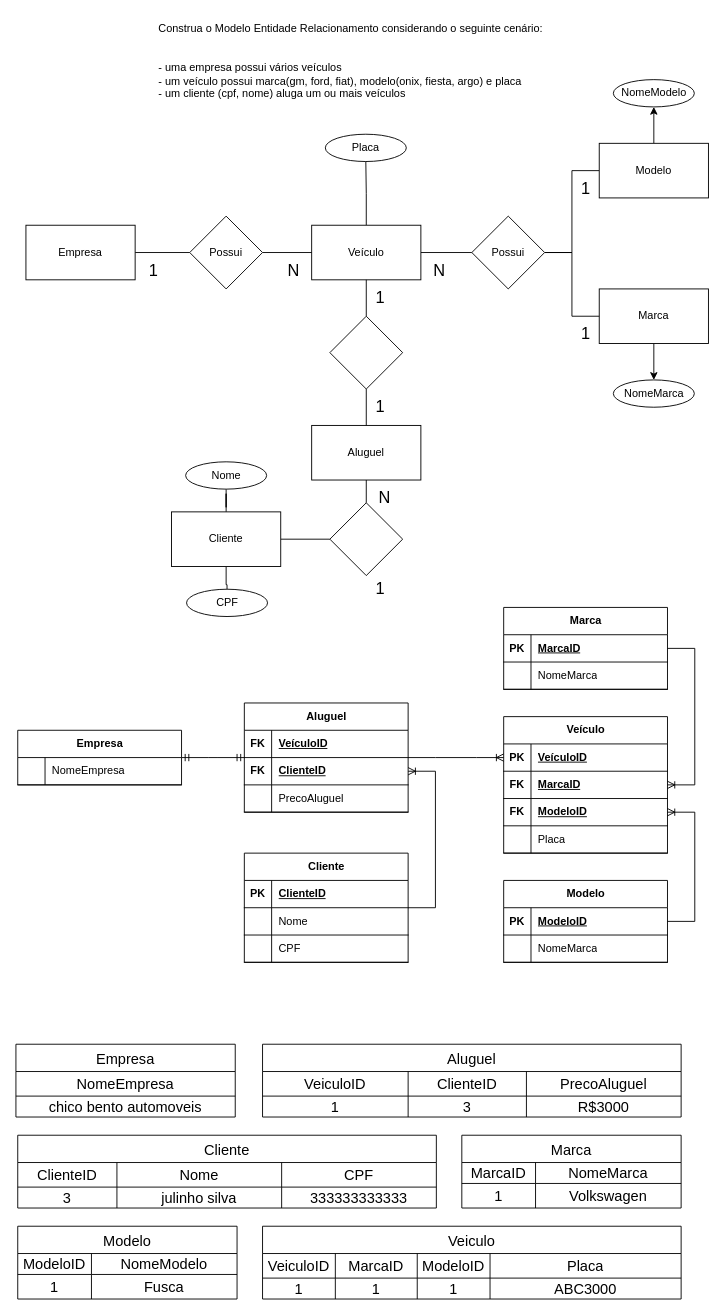
This 724x1315 diagram has some shape labels left out. Each missing label, with the centre of its shape:
"Aluga" belongs at point 366,352.
"Paga" belongs at point 366,539.
